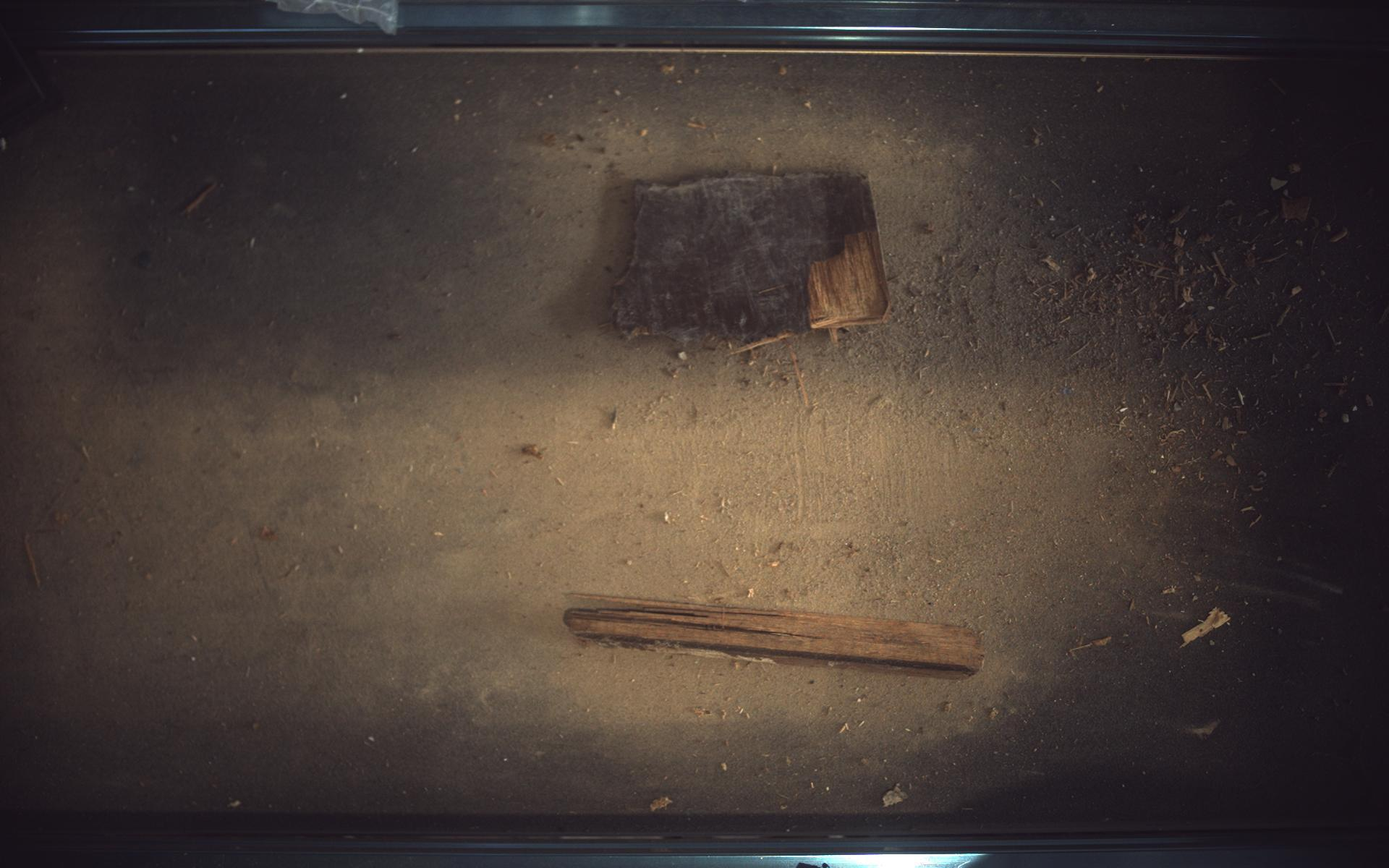wood: (615, 172, 893, 341), (564, 594, 986, 679)
